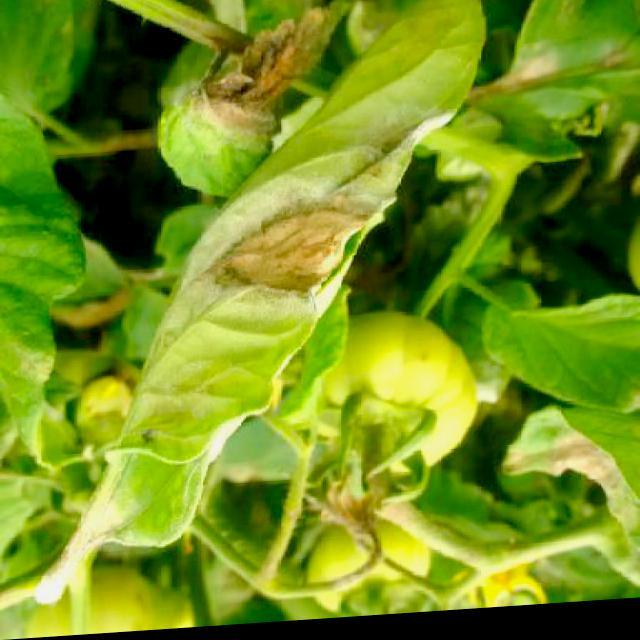Tomato mosaic virus leaf: (56, 0, 504, 594), (148, 2, 354, 206)
